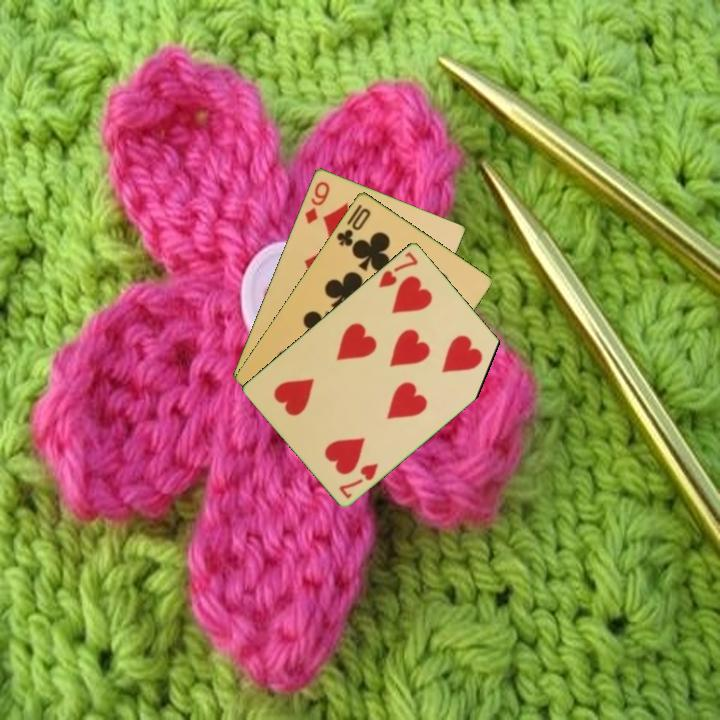10c: (333, 204, 374, 249)
7h: (375, 248, 421, 290), (335, 459, 381, 501)
9d: (301, 177, 332, 227)
